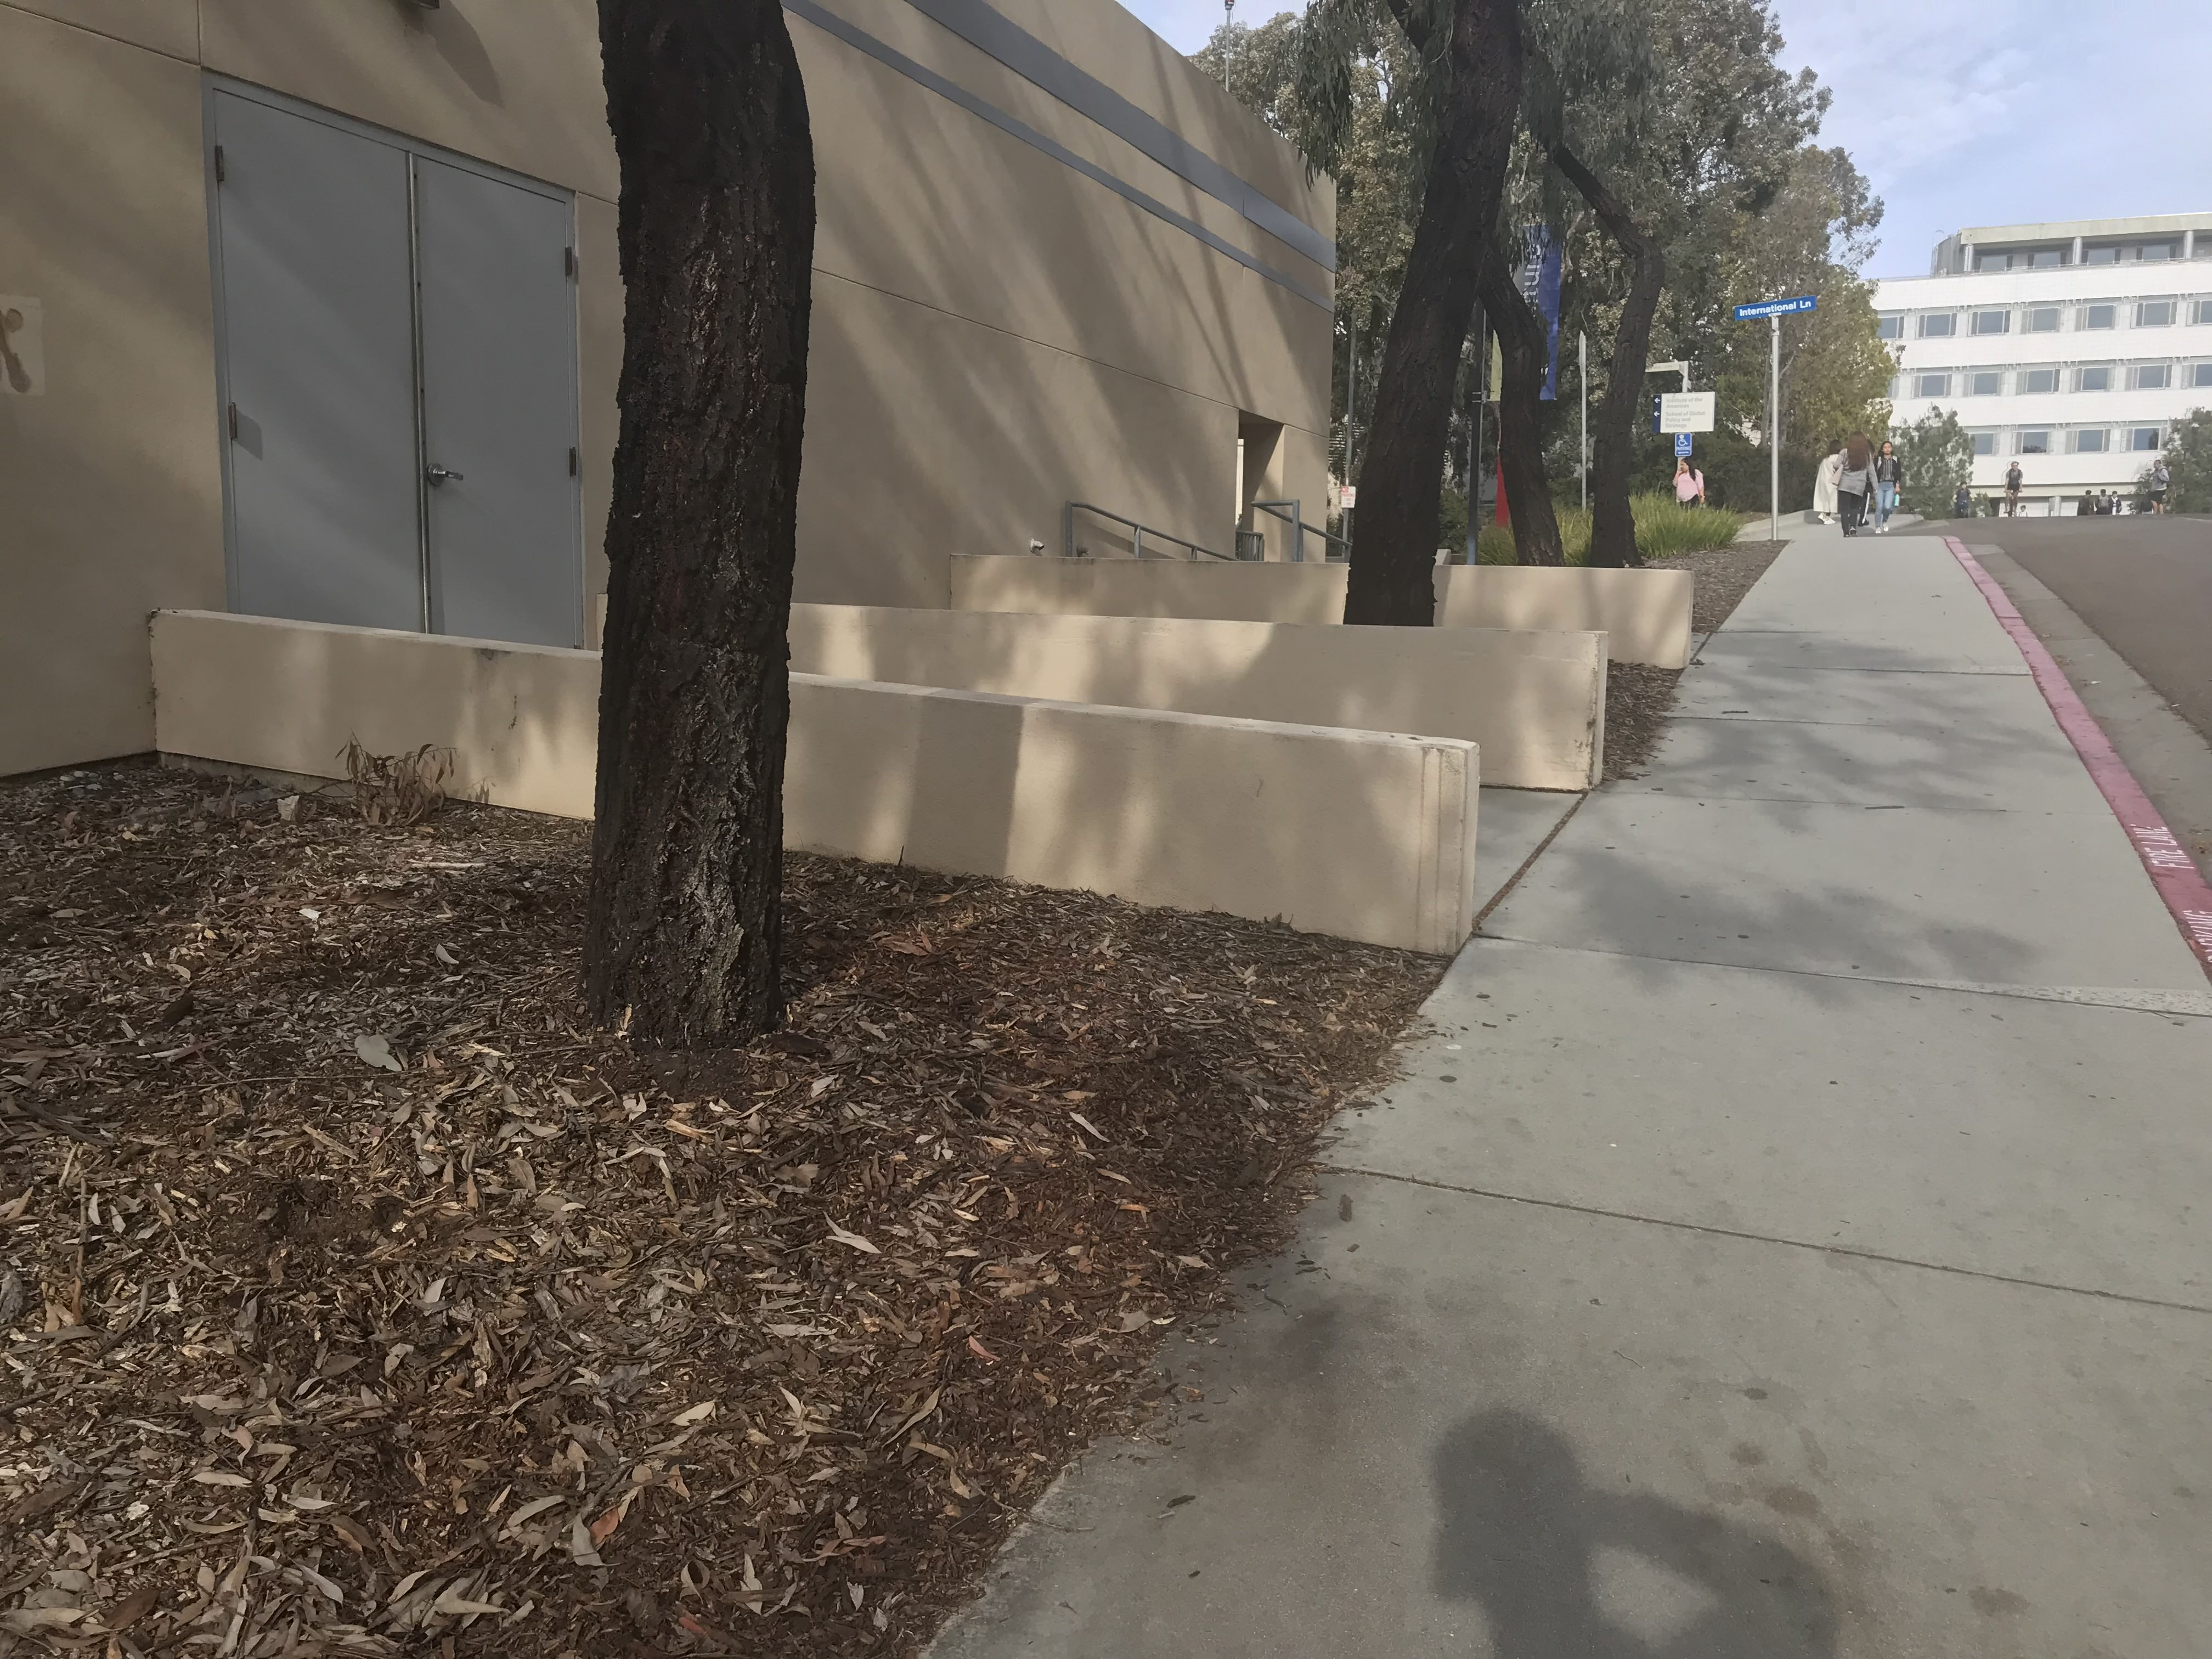Edge: (918, 962, 1446, 1654), (1958, 544, 2207, 904), (1613, 538, 1784, 777)
Obstacle: (143, 605, 1468, 939), (948, 544, 1693, 789), (1482, 230, 1642, 568)
